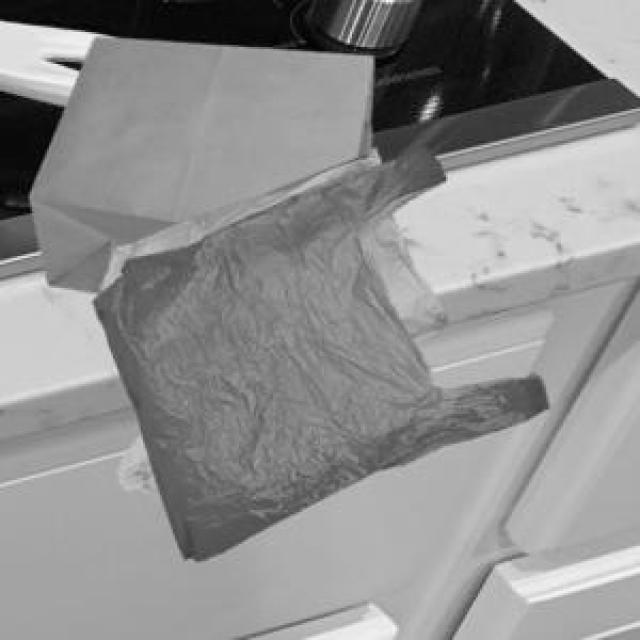paper: (26, 34, 369, 290)
